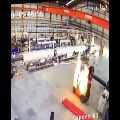fire: (73, 53, 89, 96)
